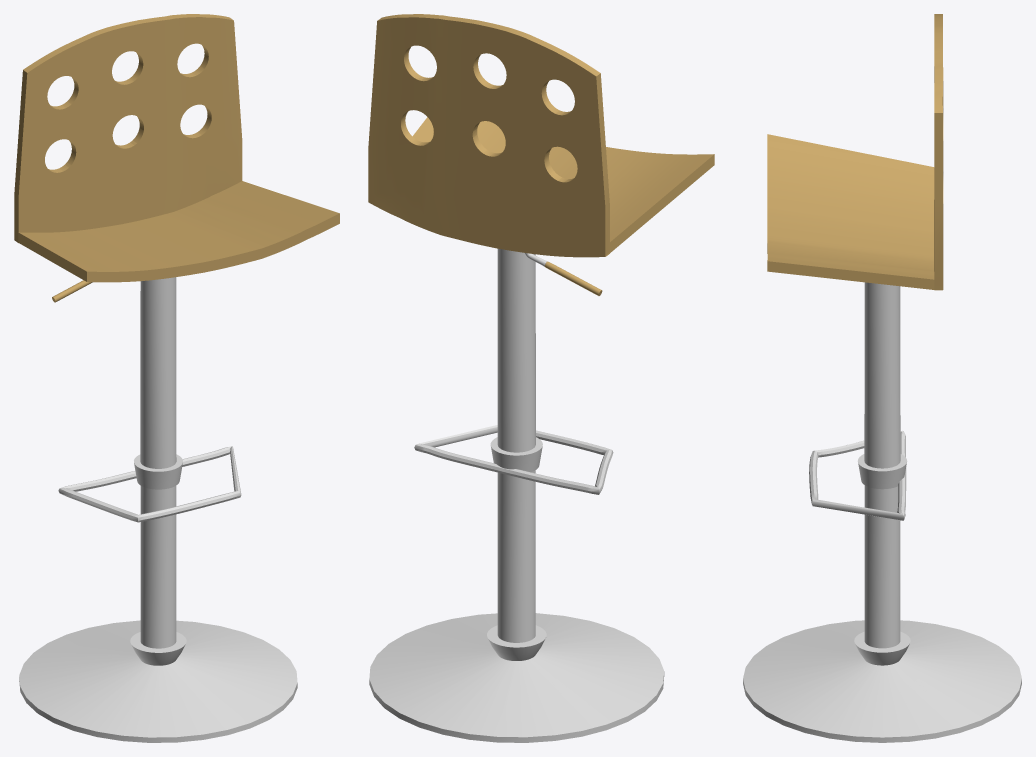
File: sh_blend_swap_cc_0_silla2.glb
The picture shows the model from 3 angles, left to right: view 1: azimuth 30°, elevation 25°; view 2: azimuth 150°, elevation 25°; view 3: azimuth 270°, elevation 25°; orthographic projection. The views are drawn at different scales.
Size of the model in its own units: 0.326 by 0.788 by 0.311.
